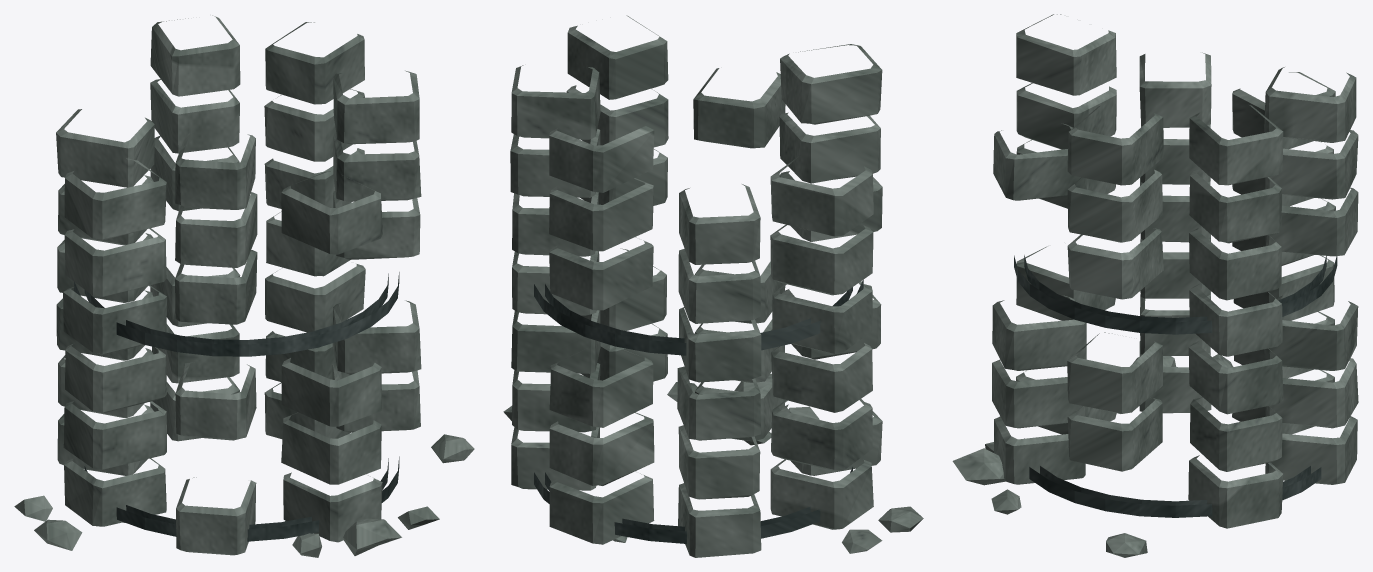
File: 0416_ruined_tower_16.glb
3 views of the same model, side by side, from view 1: azimuth 30°, elevation 25°; view 2: azimuth 150°, elevation 25°; view 3: azimuth 270°, elevation 25° (orthographic). The views are drawn at different scales.
Parts seen in each view (by area): view 1: stone, stone_dark; view 2: stone, stone_dark; view 3: stone, stone_dark.
Part boxes in pixels (left/top/right/bottom): stone: left=14, top=15, right=474, bottom=557; stone_dark: left=74, top=272, right=399, bottom=541; stone: left=503, top=15, right=923, bottom=557; stone_dark: left=534, top=279, right=863, bottom=543; stone: left=952, top=14, right=1358, bottom=557; stone_dark: left=1014, top=255, right=1337, bottom=517.
Size of the model in its own units: 3.17 by 2.94 by 2.71.
2 materials, 2 textured.
